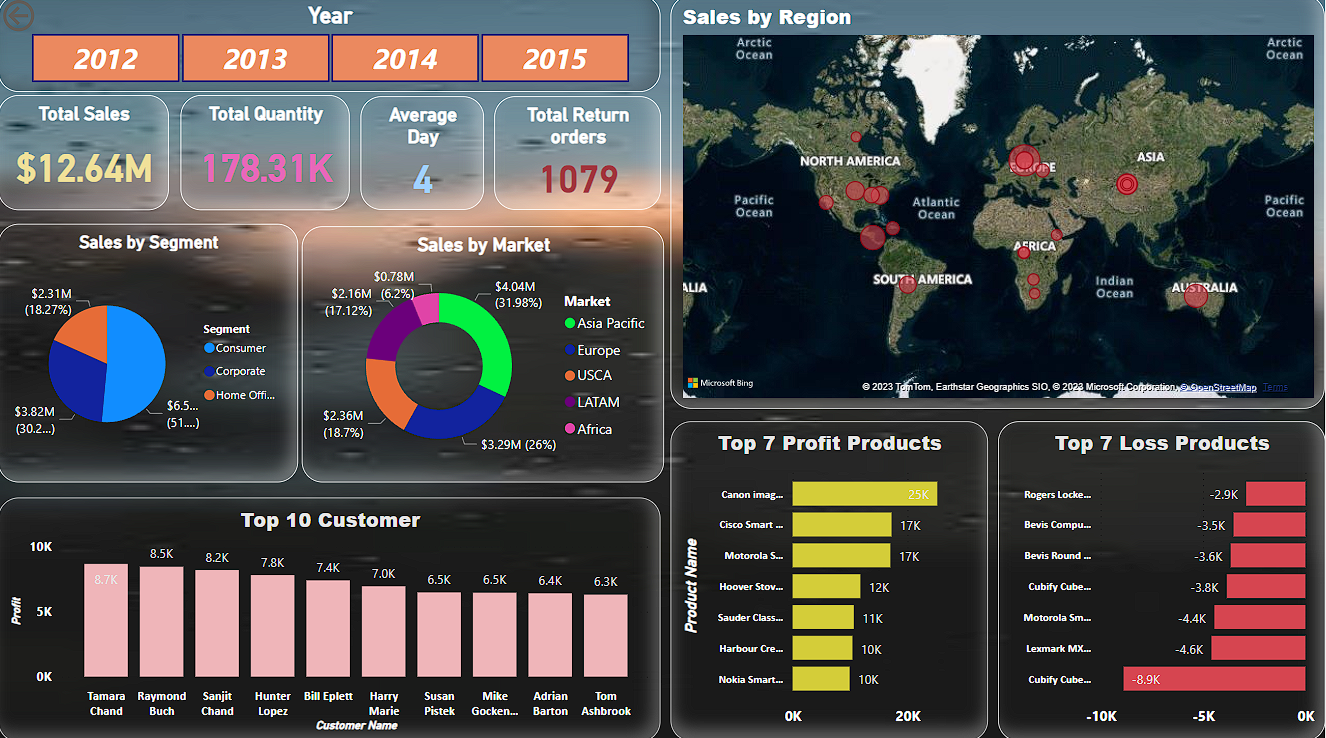

This screenshot's page, from the dashboard's own definition file:
{"tool":"powerbi","page":{"name":"Page 1","canvas":[1280,720],"ordinal":0},"visuals":[{"type":"card","title":"Total Sales","fields":{"Values":["Orders (2).Sales"]},"box":[0,96.1,164.7,111.1],"z":0},{"type":"card","title":"Total Quantity","fields":{"Values":["Orders (2).Quantity"]},"box":[175.6,96.1,163.3,111.1],"z":1000},{"type":"actionButton","box":[0,0,100,40],"z":2000},{"type":"card","title":"Average Day","fields":{"Values":["Orders (2).Delivery days"]},"box":[349.9,97.4,119.4,109.8],"z":3000},{"type":"card","title":"Total Return orders","fields":{"Values":["Returns (2).Return order"]},"box":[478.9,97.4,160.5,109.8],"z":4000},{"type":"slicer","title":"Year","fields":{"Values":["Orders (2).Year"]},"box":[0,0,639.5,93.3],"z":5000},{"type":"map","title":"Sales by Region","fields":{"Category":["Orders (2).Region"],"Size":["Orders (2).Sales"]},"box":[649.1,0,631.2,399.3],"z":6000},{"type":"barChart","title":"Top 7 Profit Products","fields":{"Category":["Orders (2).Product Name"],"Y":["Orders (2).Profit"]},"box":[649.1,411.7,306,308.7],"z":7000},{"type":"barChart","title":"Top 7 Loss Products","fields":{"Category":["Orders (2).Product Name"],"Y":["Orders (2).Profit"]},"box":[964.7,411.7,315.6,308.7],"z":8000},{"type":"pieChart","title":"Sales by Segment","fields":{"Category":["Orders (2).Segment"],"Y":["Orders (2).Sales"]},"box":[0,220.9,289.5,249.7],"z":9000},{"type":"donutChart","title":"Sales by Market","fields":{"Y":["Orders (2).Sales"],"Category":["Orders (2).Market"]},"box":[293.7,223.7,349.9,247],"z":10000},{"type":"columnChart","title":"Top 10 Customer","fields":{"Category":["Orders (2).Customer Name"],"Y":["Orders (2).Profit"]},"box":[0,484.4,639.5,236],"z":11000}]}

Visuals, with their boxes in screenshot pixels (x1, y1, x2, y2), scaled from the page's 1280x720 canvas onto the 1326x738 screenshot:
"Total Sales" card: x1=0, y1=99, x2=171, y2=212
"Total Quantity" card: x1=182, y1=99, x2=351, y2=212
actionButton: x1=0, y1=0, x2=104, y2=41
"Average Day" card: x1=362, y1=100, x2=486, y2=212
"Total Return orders" card: x1=496, y1=100, x2=662, y2=212
"Year" slicer: x1=0, y1=0, x2=662, y2=96
"Sales by Region" map: x1=672, y1=0, x2=1325, y2=409
"Top 7 Profit Products" barChart: x1=672, y1=422, x2=989, y2=737
"Top 7 Loss Products" barChart: x1=999, y1=422, x2=1325, y2=737
"Sales by Segment" pieChart: x1=0, y1=226, x2=300, y2=482
"Sales by Market" donutChart: x1=304, y1=229, x2=667, y2=482
"Top 10 Customer" columnChart: x1=0, y1=497, x2=662, y2=737
